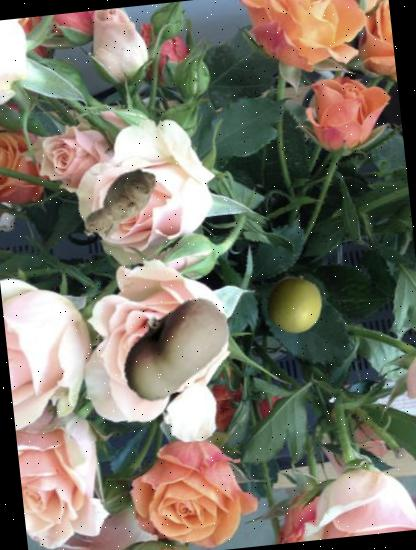Apple: (260, 272, 328, 340)
Ginger: (68, 154, 170, 256)
Peach: (108, 281, 240, 414)
